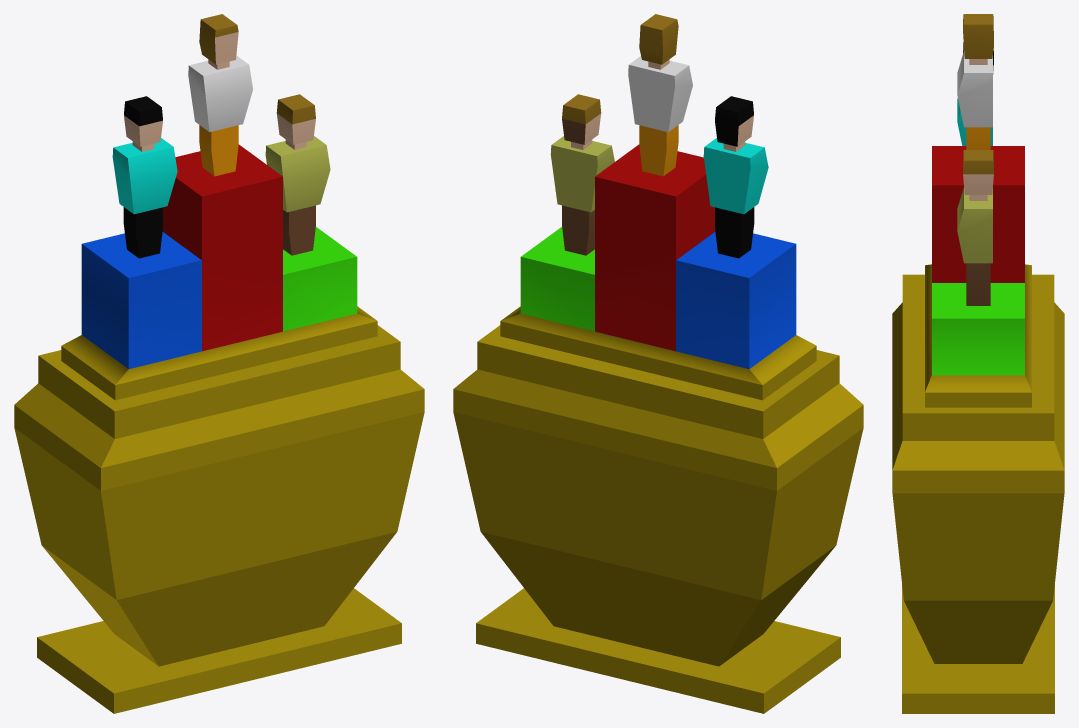
The model's file is podium.fbx.
The picture shows the model from 3 angles, left to right: view 1: azimuth 30°, elevation 25°; view 2: azimuth 150°, elevation 25°; view 3: azimuth 270°, elevation 25°; orthographic projection.
Visible parts, largest first — view 1: podiumSimple; view 2: podiumSimple; view 3: podiumSimple.
Boxes of the visible parts, x1,y1,x2,y2 form: podiumSimple: (14,14,424,713); podiumSimple: (453,14,863,713); podiumSimple: (892,14,1064,713).
Bounding box in the file's own units: 9.08 × 16.85 × 4.21.
